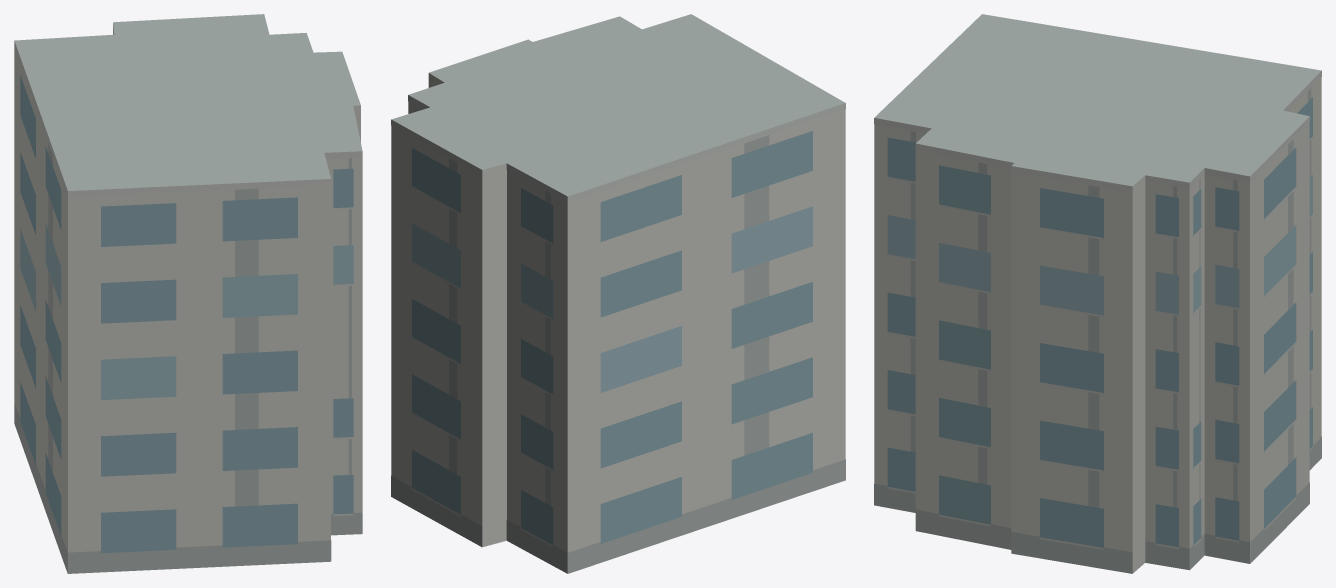
File: survey-upis-32794304.glb
3 renders of one model, left to right at view 1: azimuth 30°, elevation 25°; view 2: azimuth 150°, elevation 25°; view 3: azimuth 270°, elevation 25°, orthographic. The views are drawn at different scales.
Visible parts, largest first — view 1: survey-upis-32794304.tmp; view 2: survey-upis-32794304.tmp; view 3: survey-upis-32794304.tmp.
Boxes of the visible parts, box(x1,y1,x2,y2) form: survey-upis-32794304.tmp: box(14, 14, 362, 573); survey-upis-32794304.tmp: box(391, 14, 845, 573); survey-upis-32794304.tmp: box(874, 14, 1321, 573).
Size of the model in its own units: 13.84 by 14.5 by 15.19.
